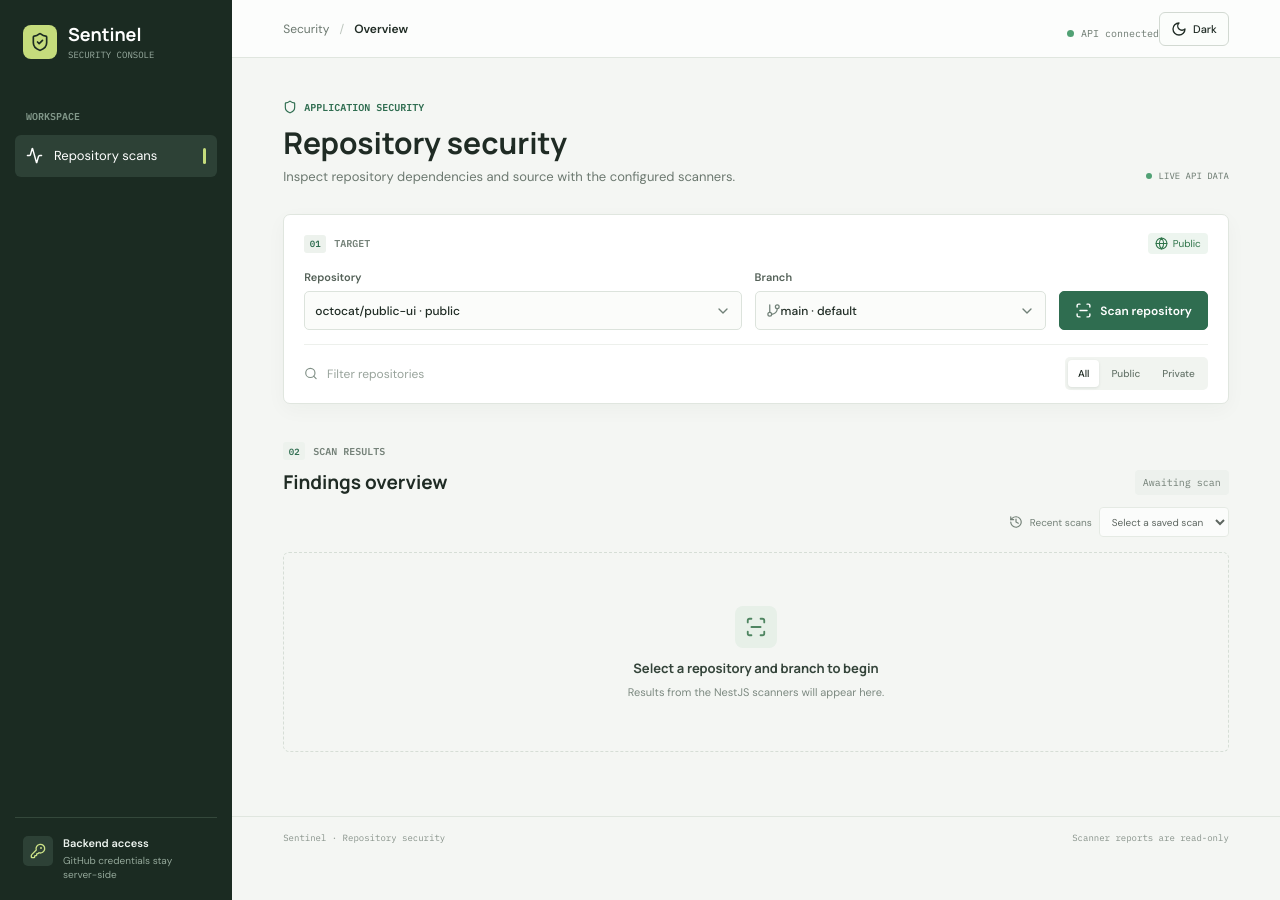
Test: Security dashboard › filters repositories, selects a branch, and displays real scan findings
Click the button "Private" at {"x": 1179, "y": 374}, box left=1152, top=360, right=1205, bottom=387
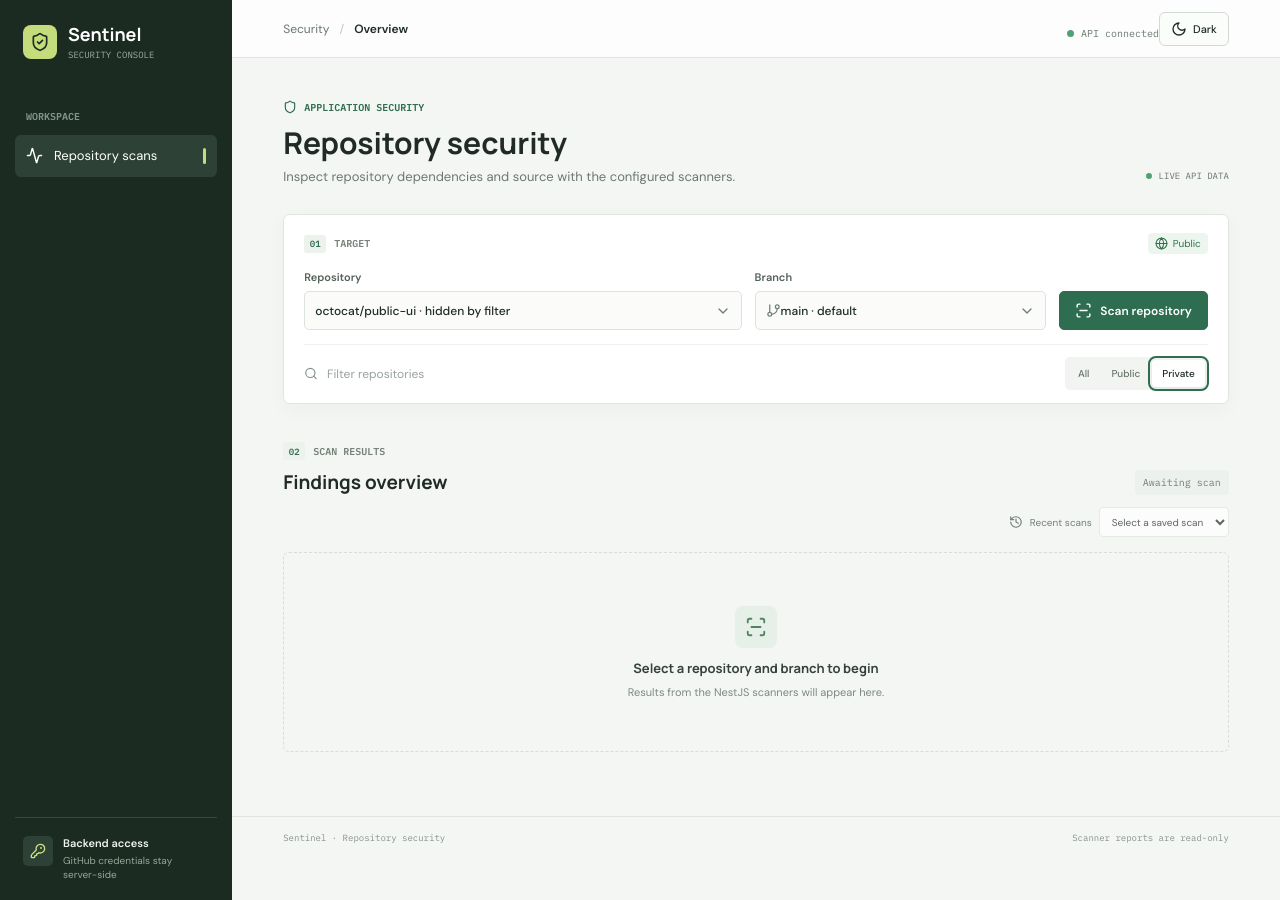
Select "octocat/private-api · private" in the dropdown labelled "Repository" at {"x": 515, "y": 310}, box left=315, top=302, right=715, bottom=318
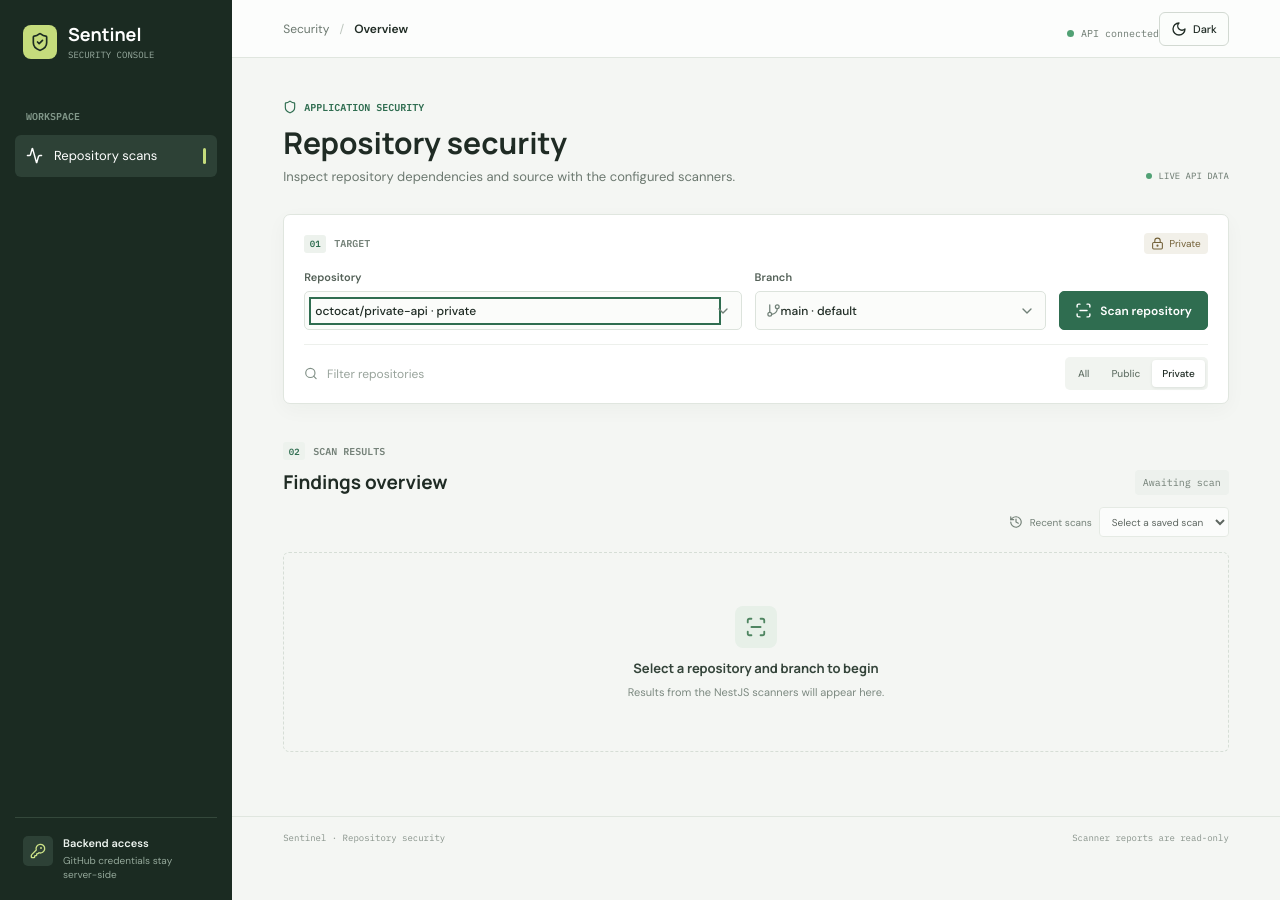
Select "release" in the dropdown labelled "Branch" at {"x": 900, "y": 310}, box left=781, top=302, right=1019, bottom=318
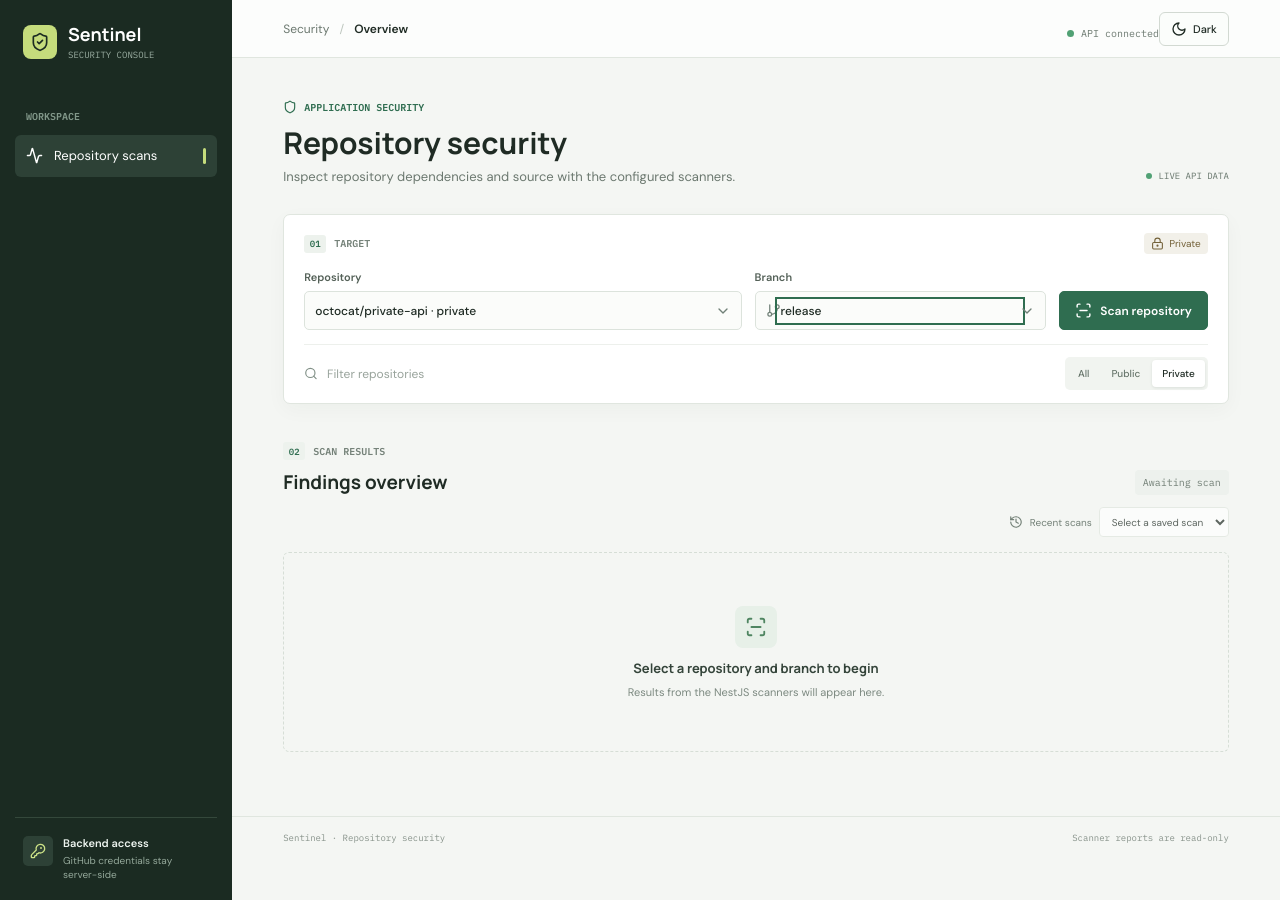
Click the button "Scan repository" at {"x": 1134, "y": 310}, box left=1059, top=291, right=1208, bottom=330
(page scrolled)
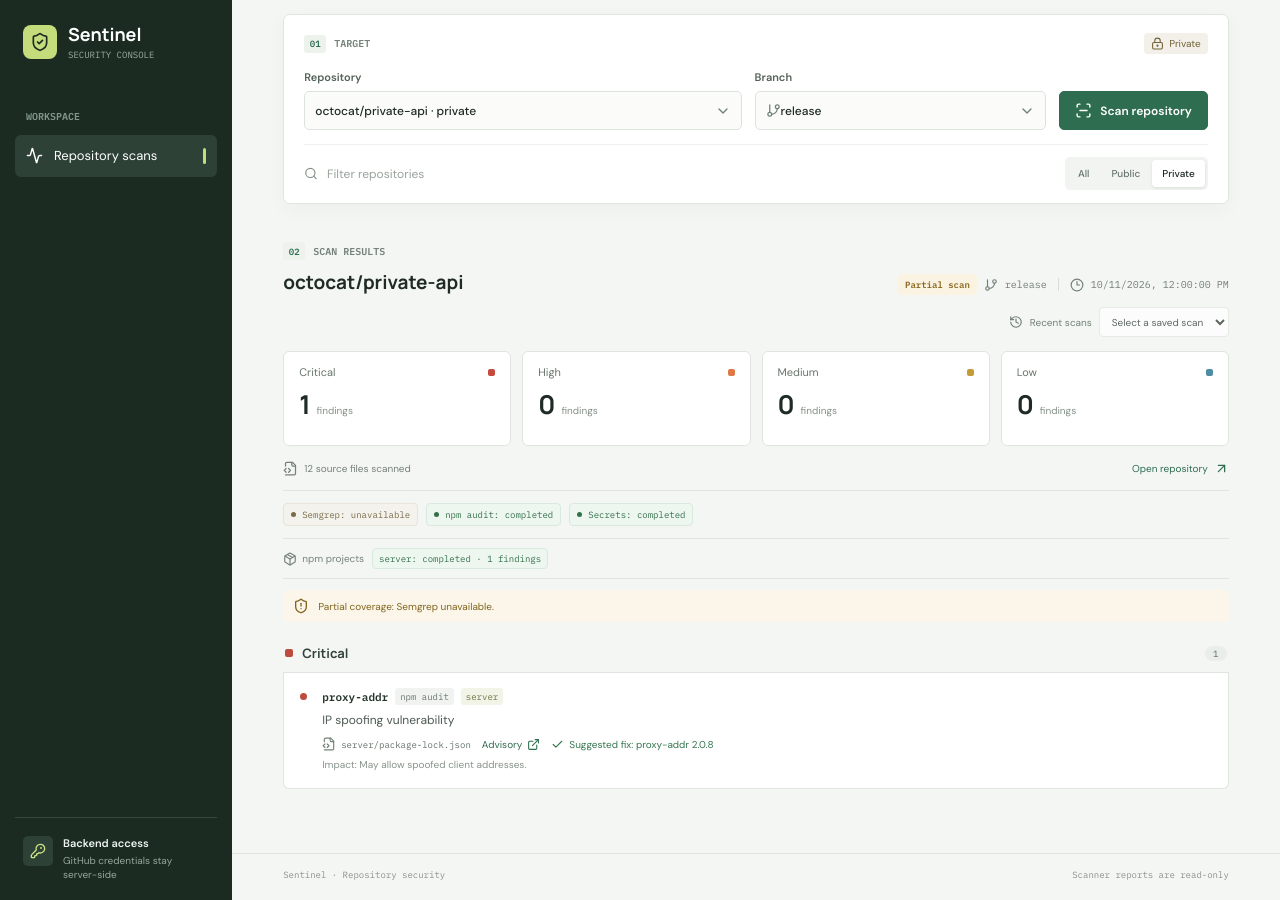
Now the text "IP spoofing vulnerability" is shown, box left=322, top=712, right=454, bottom=728
Now the heading "Critical" is shown, box left=302, top=644, right=348, bottom=662
Now the text "Semgrep: unavailable" is shown, box left=283, top=503, right=418, bottom=526
